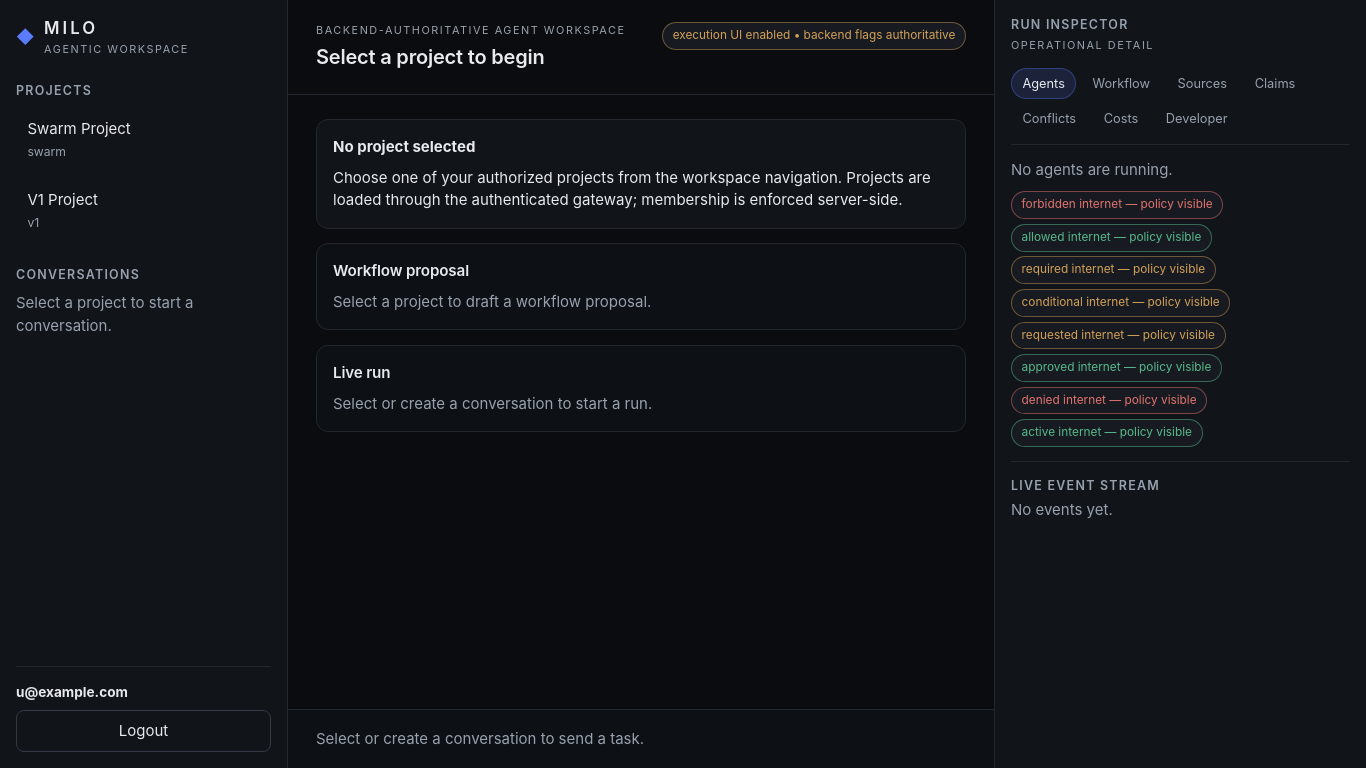
the Mapping Plan surface › refuses a stale plan rather than overwriting it, and reads the real one back
Click the text "Swarm Project" at (79, 128), box [27,119,131,138]
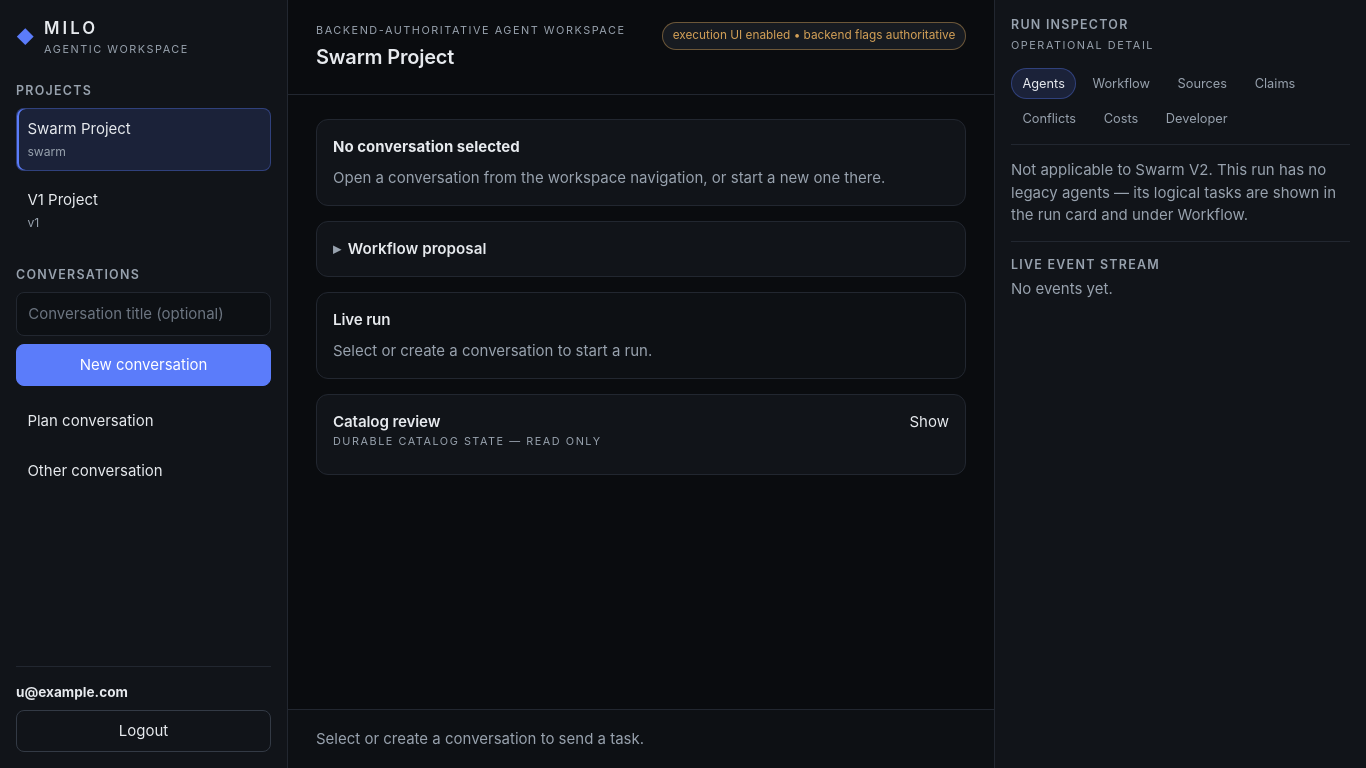
Click the button "Plan conversation" at (144, 421), box [16,400,271,442]
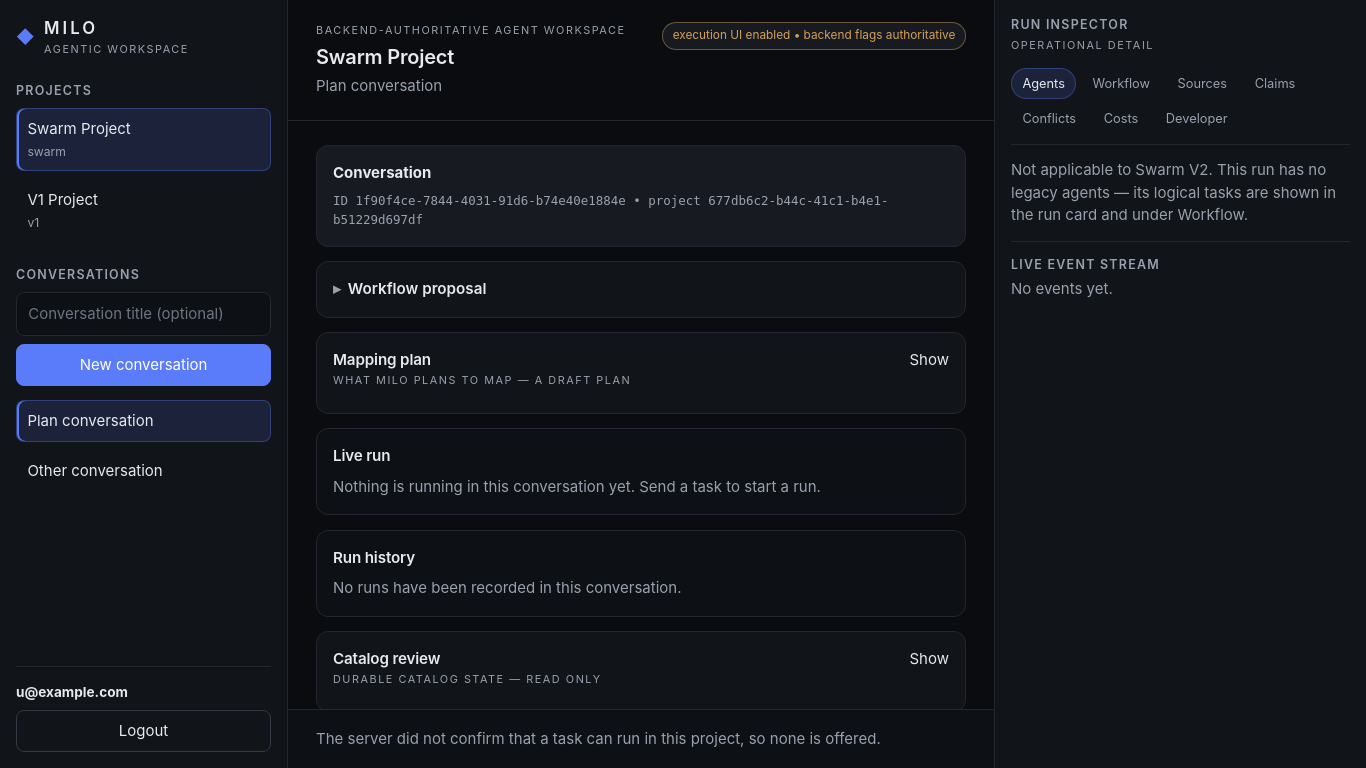
Click the button "Show" in the row of "Mapping plan" at (929, 361), box [910,350,949,372]
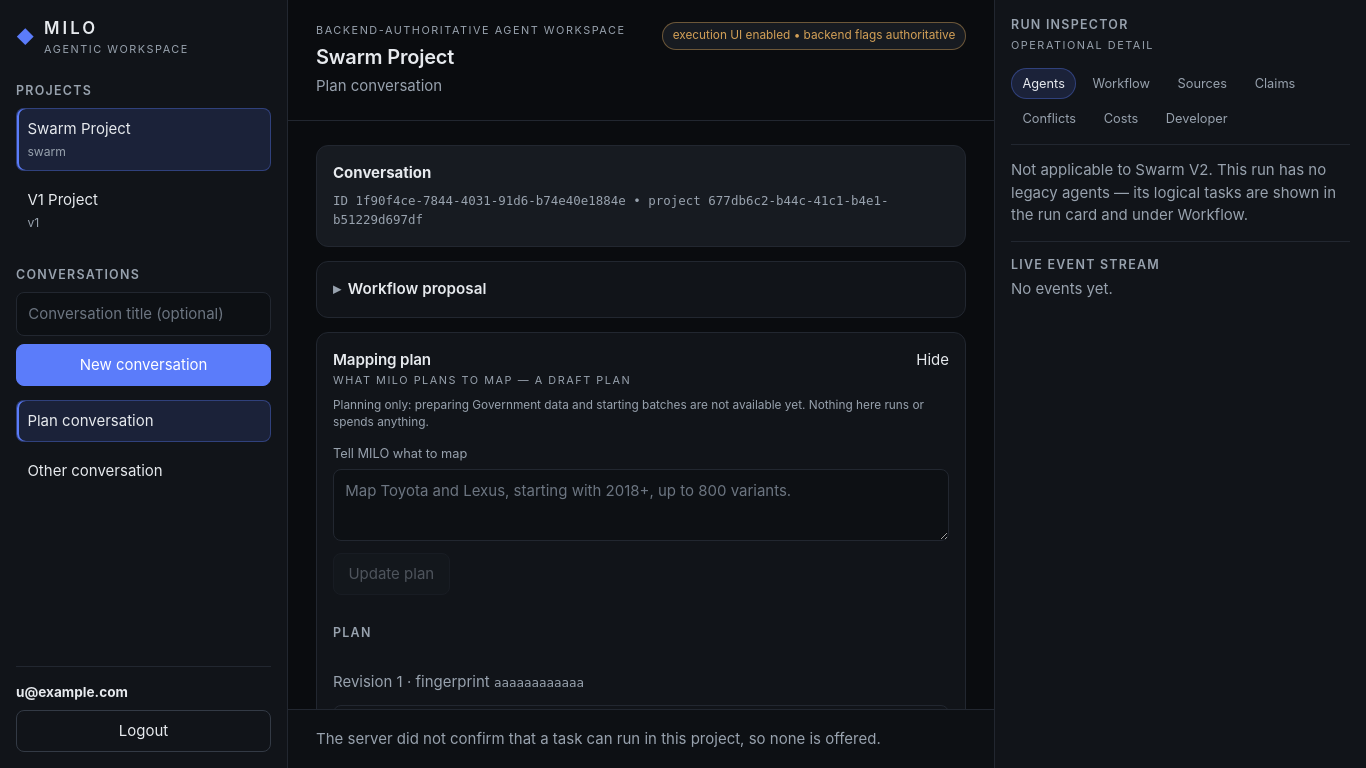
Replace the text in the text box labelled "Tell MILO what to map" with "add Kia" at (641, 505), box [333,469,949,541]
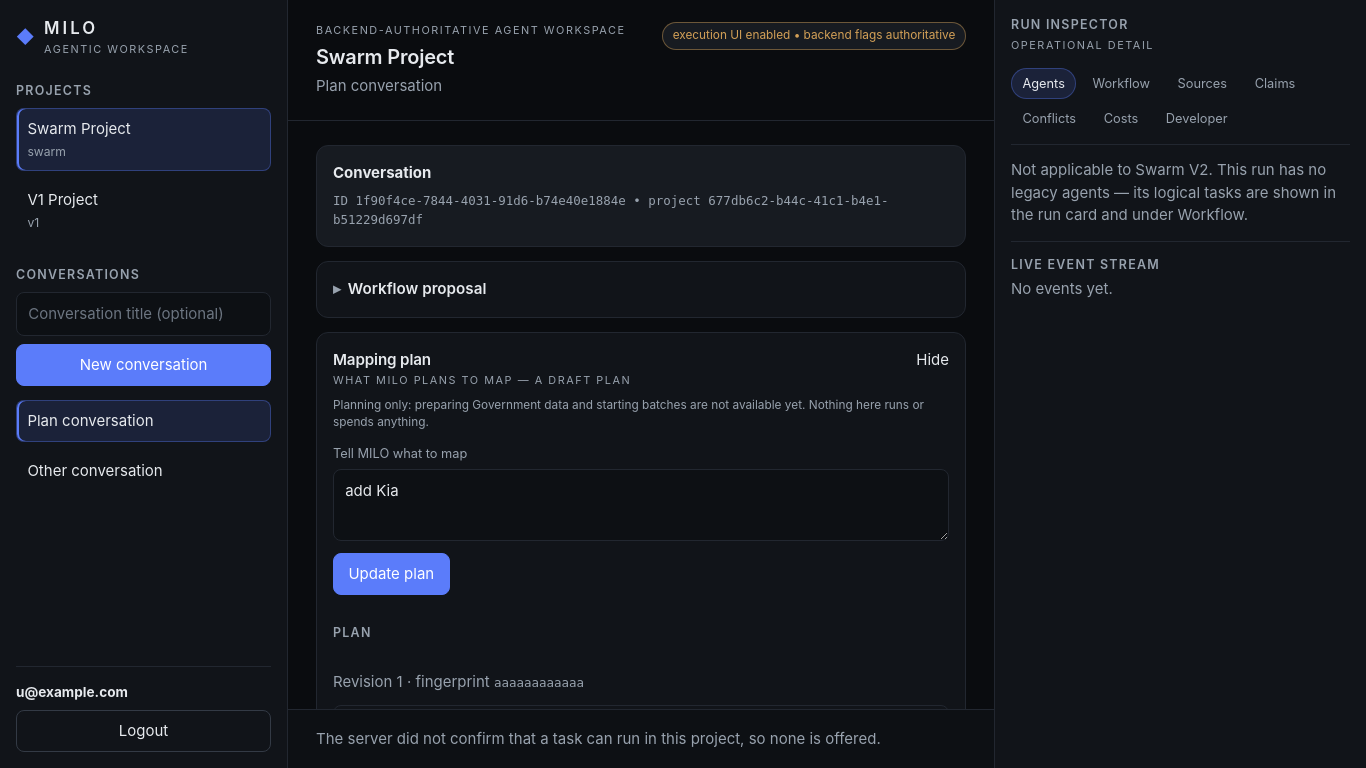
Click the button "Update plan" at (391, 574), box [333,553,450,595]
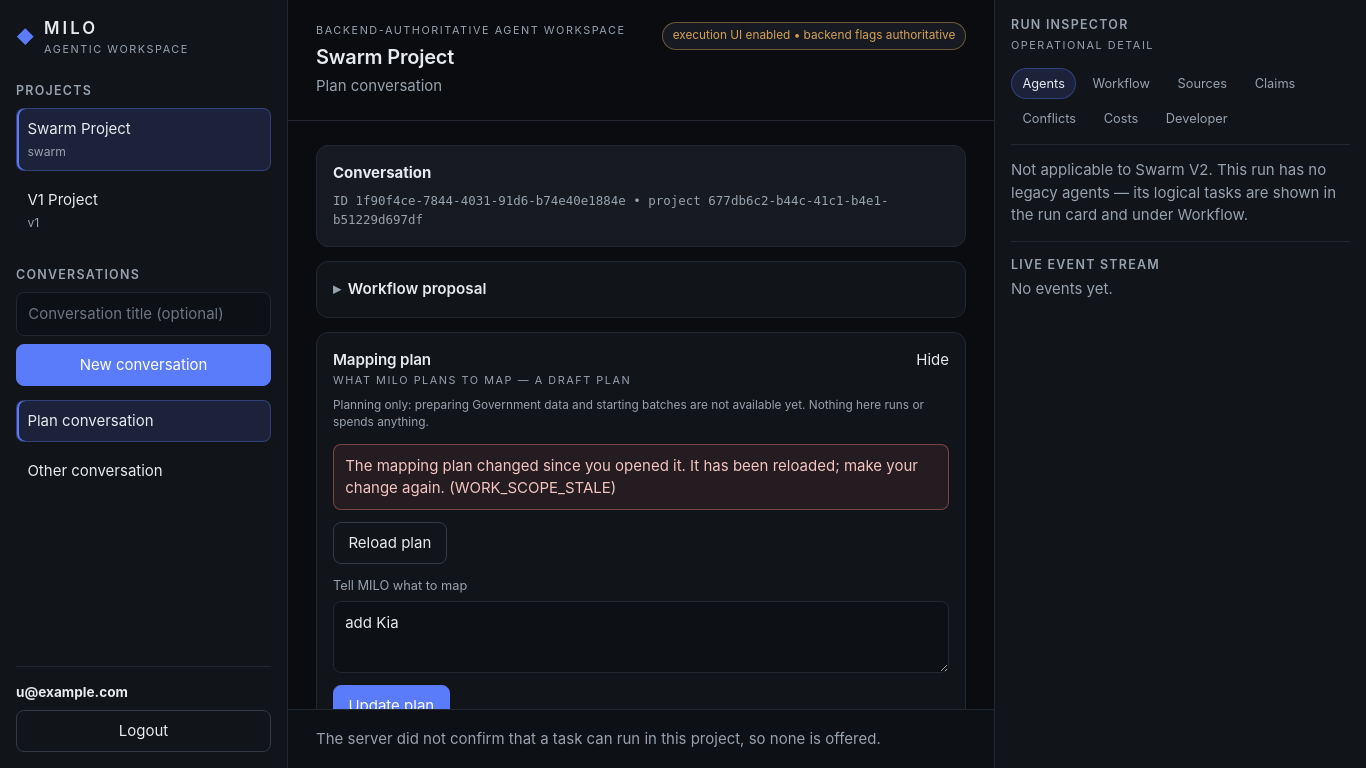
Expected: the 1st message shows "changed since you opened it", [345,456,918,497]
